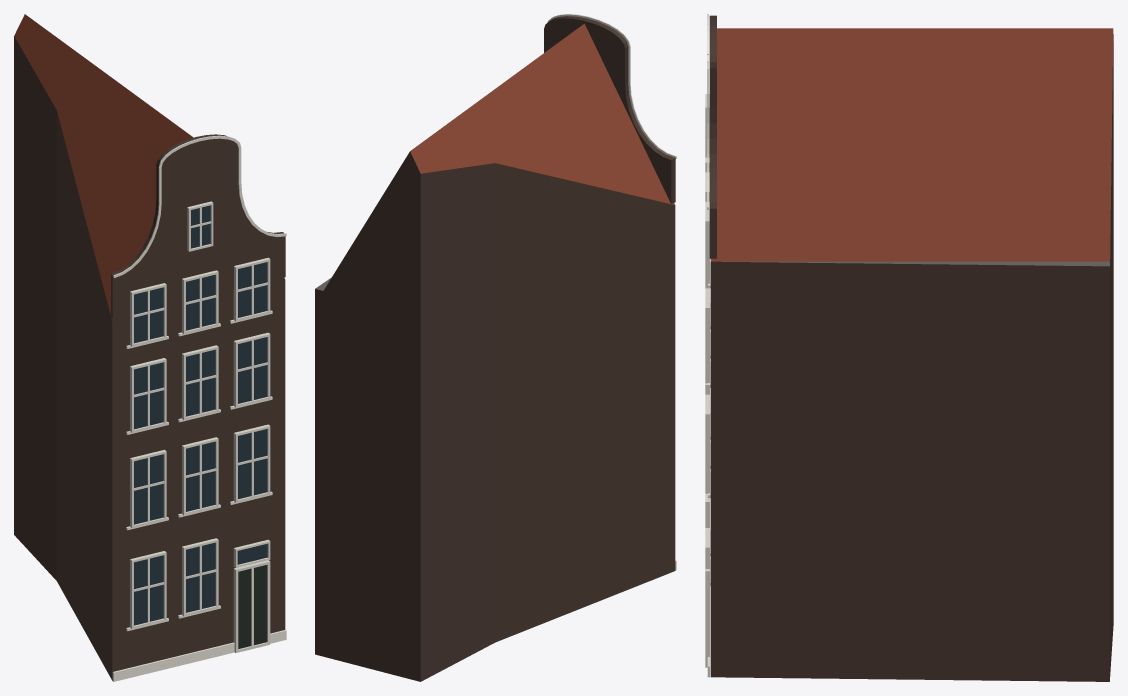
The picture shows the model from 3 angles, left to right: view 1: azimuth 30°, elevation 25°; view 2: azimuth 150°, elevation 25°; view 3: azimuth 270°, elevation 25°; orthographic projection. The views are drawn at different scales.
Parts seen in each view (by area): view 1: spec-0363100012174416; view 2: spec-0363100012174416; view 3: spec-0363100012174416.
Boxes of the visible parts, x1,y1,x2,y2 form: spec-0363100012174416: [14, 14, 286, 681]; spec-0363100012174416: [315, 14, 676, 681]; spec-0363100012174416: [705, 14, 1113, 681].
Bounding box in the file's own units: 6.15 × 16.94 × 10.38.
